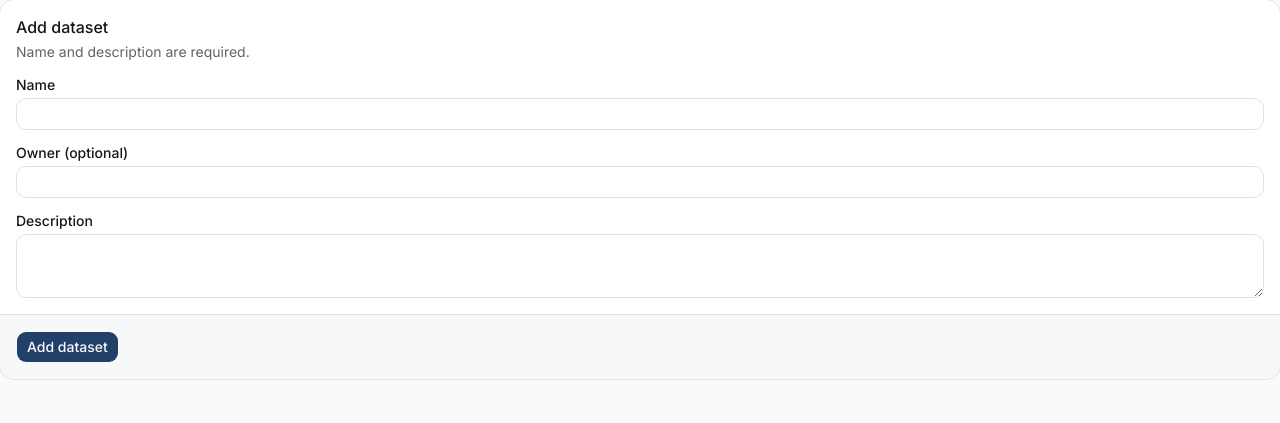
Test: AddDatasetForm › shows a server 400 message on the matching field and focuses it
This screenshot has width=1280, height=423.
Type "Trade Confirmations" into the field labelled "Name" at (640, 114), box [16,98,1264,130]
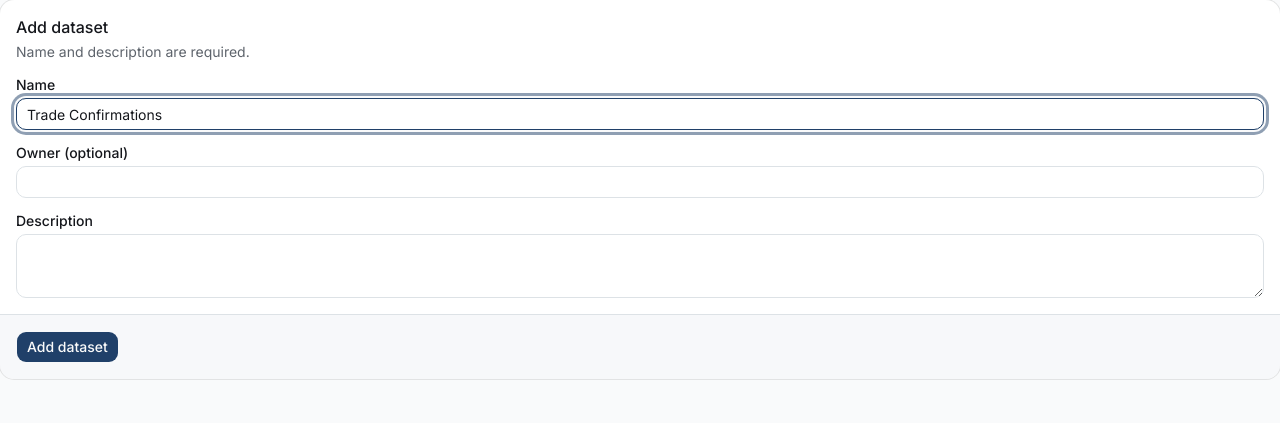
Type "Daily export of confirmed trades." into the text box labelled "Description" at (640, 266), box [16,234,1264,298]
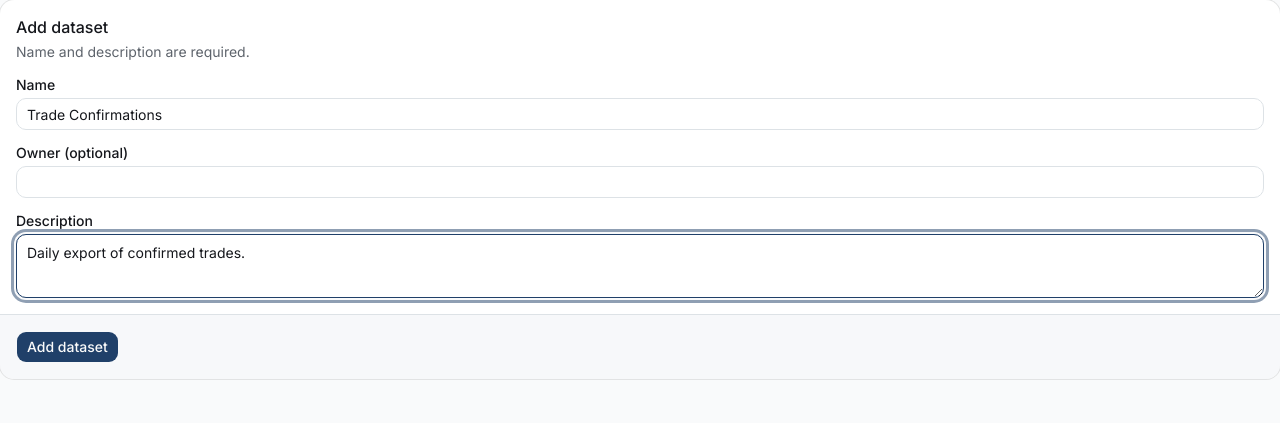
Click the button "Add dataset" at (67, 347), box [16,331,119,363]
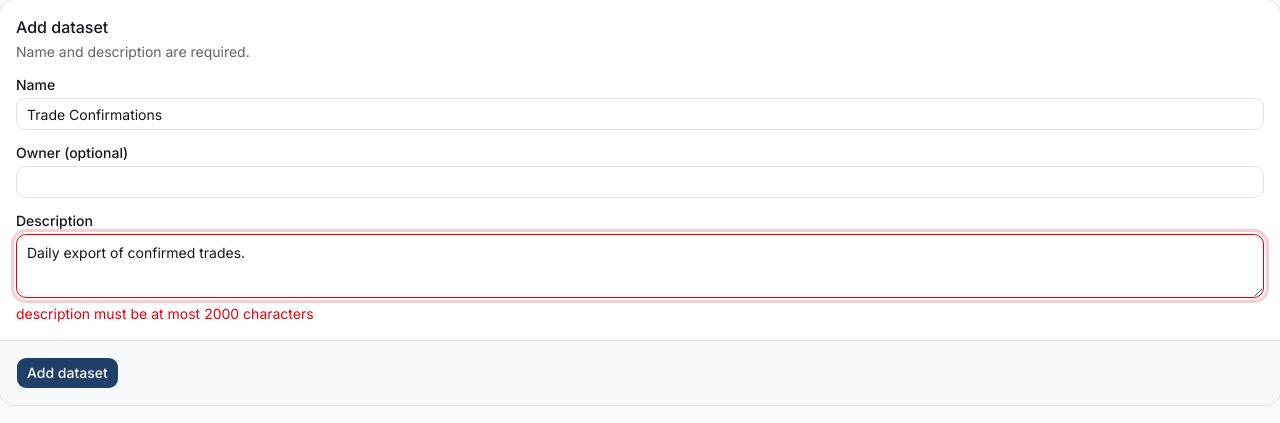
Expected: the text "description must be at most 2000 characters" is shown, [16,305,314,322]
